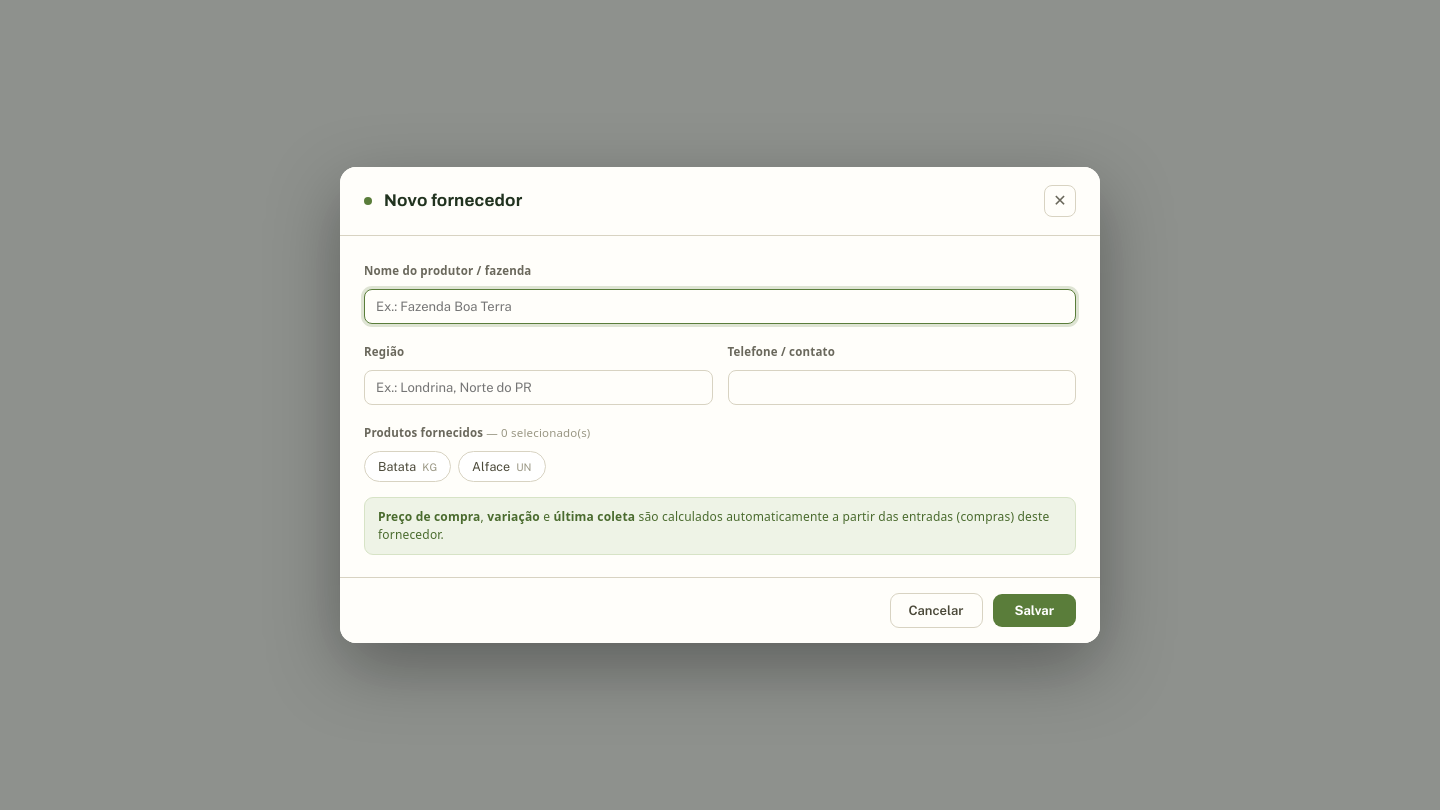
Test: ModalFornecedor — outros erros › erro != 409/401 mostra mensagem generica
The width and height of the screenshot is (1440, 810).
Type "Fazenda X" into the field labelled "Nome do produtor / fazenda". click: (720, 306)
box: top-left (364, 289), bottom-right (1076, 324)
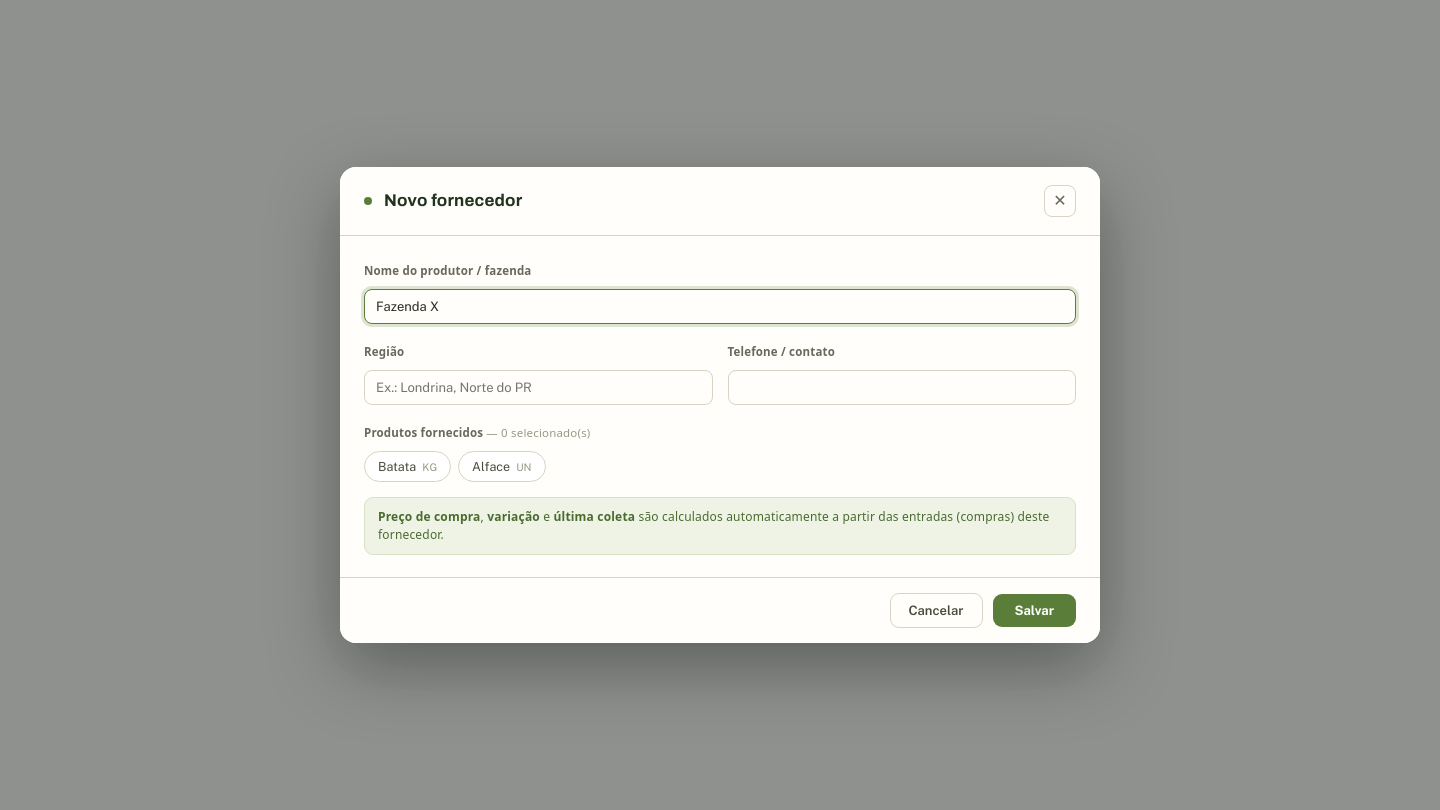
Click the button "Salvar". click: (1034, 611)
box: top-left (992, 594), bottom-right (1076, 627)
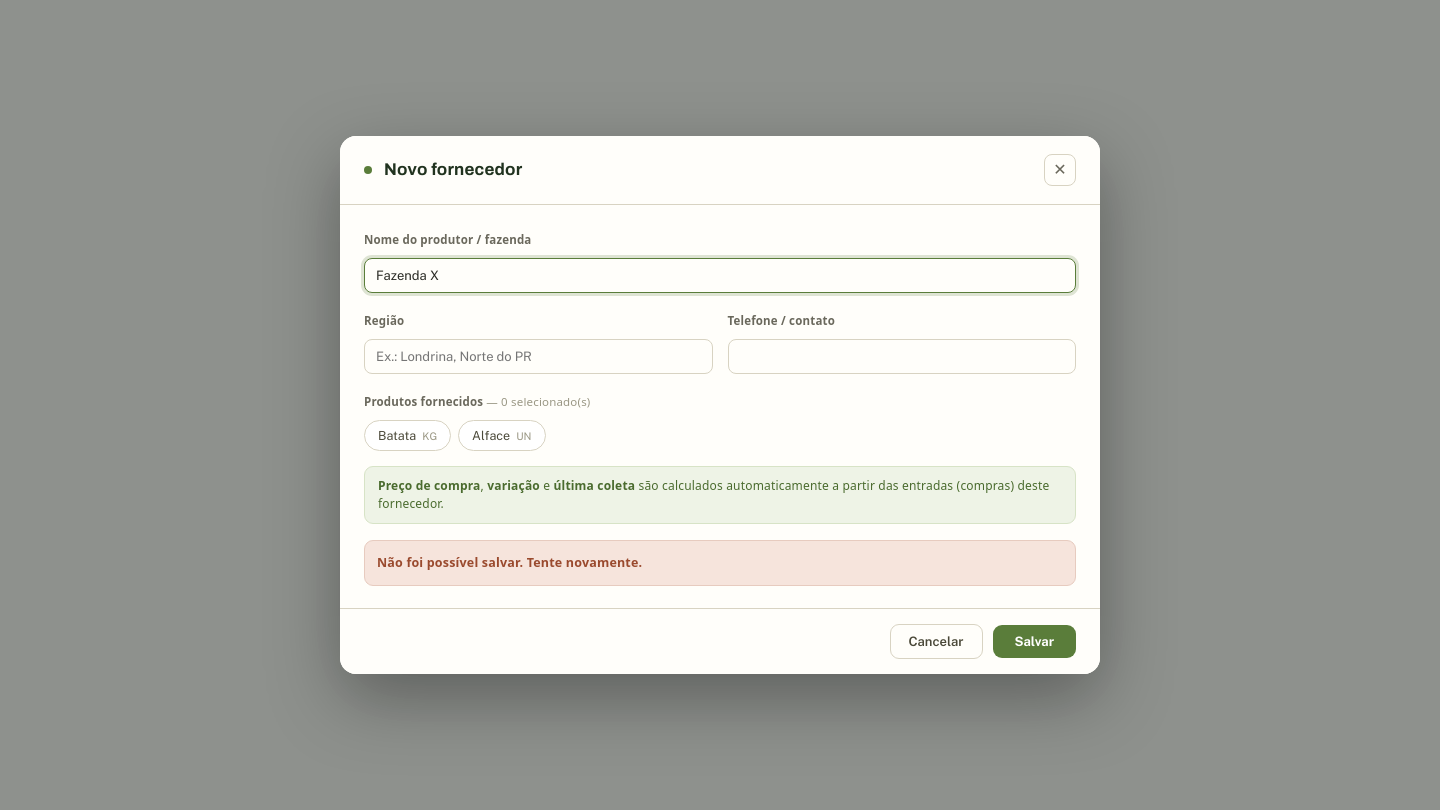
Now the message reads "Não foi possível salvar. Tente novamente.", box top-left (377, 554), bottom-right (642, 571)
